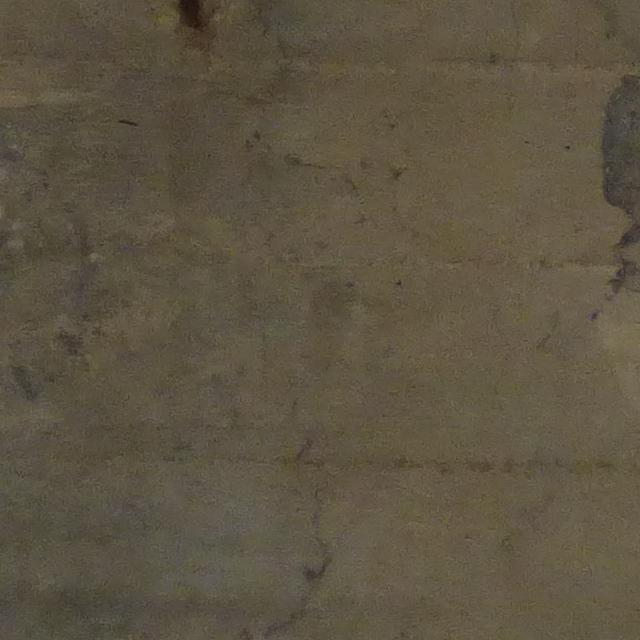Rust: (174, 1, 203, 29)
